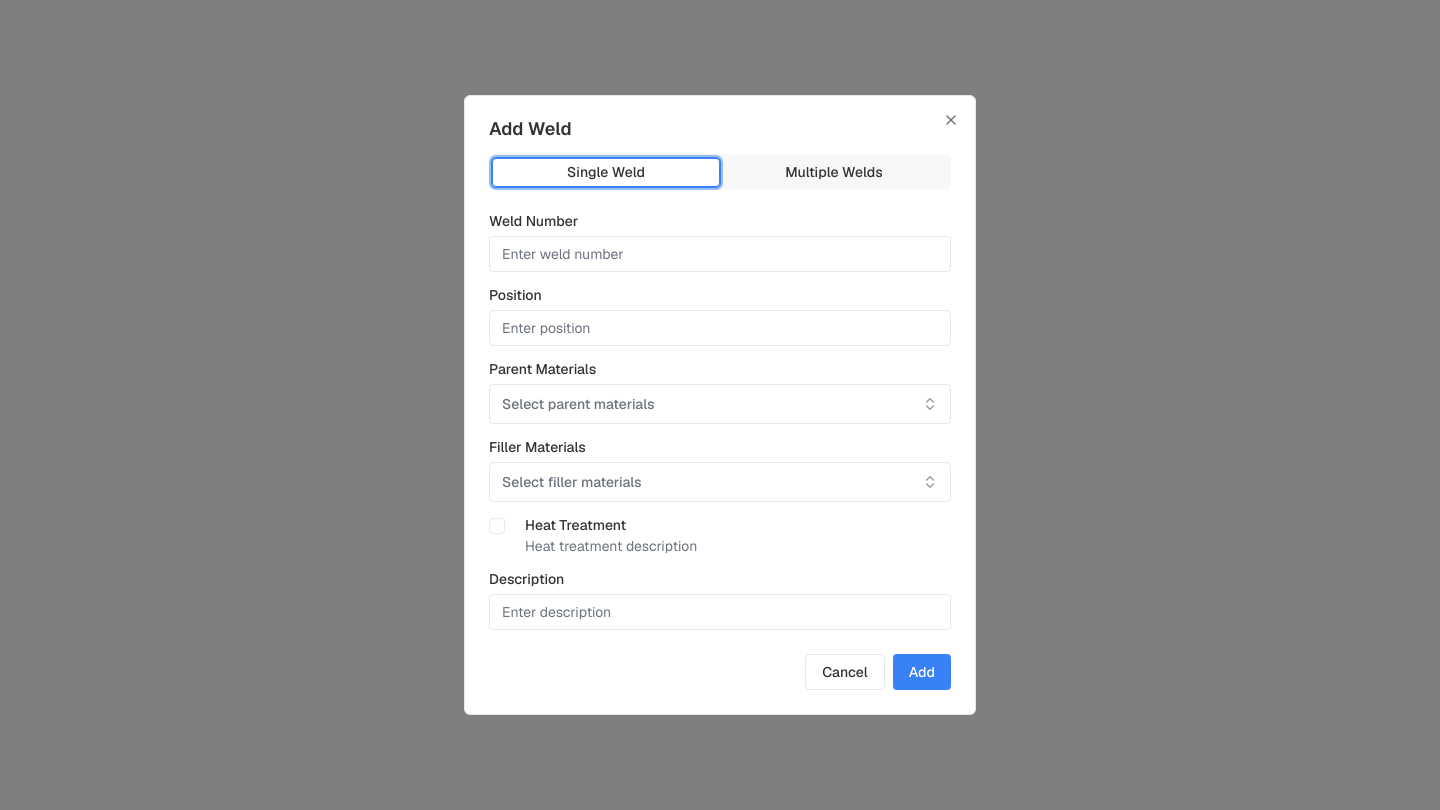
Test case: WeldFormDialog › Dialog Title Behavior › should update title when switching to multiple welds mode
The image size is (1440, 810).
Expected: the heading "Add Weld" is shown, [489,117,572,140]
Step 1. Click the tab "Multiple Welds" → [834, 172], box [720,158,948,186]
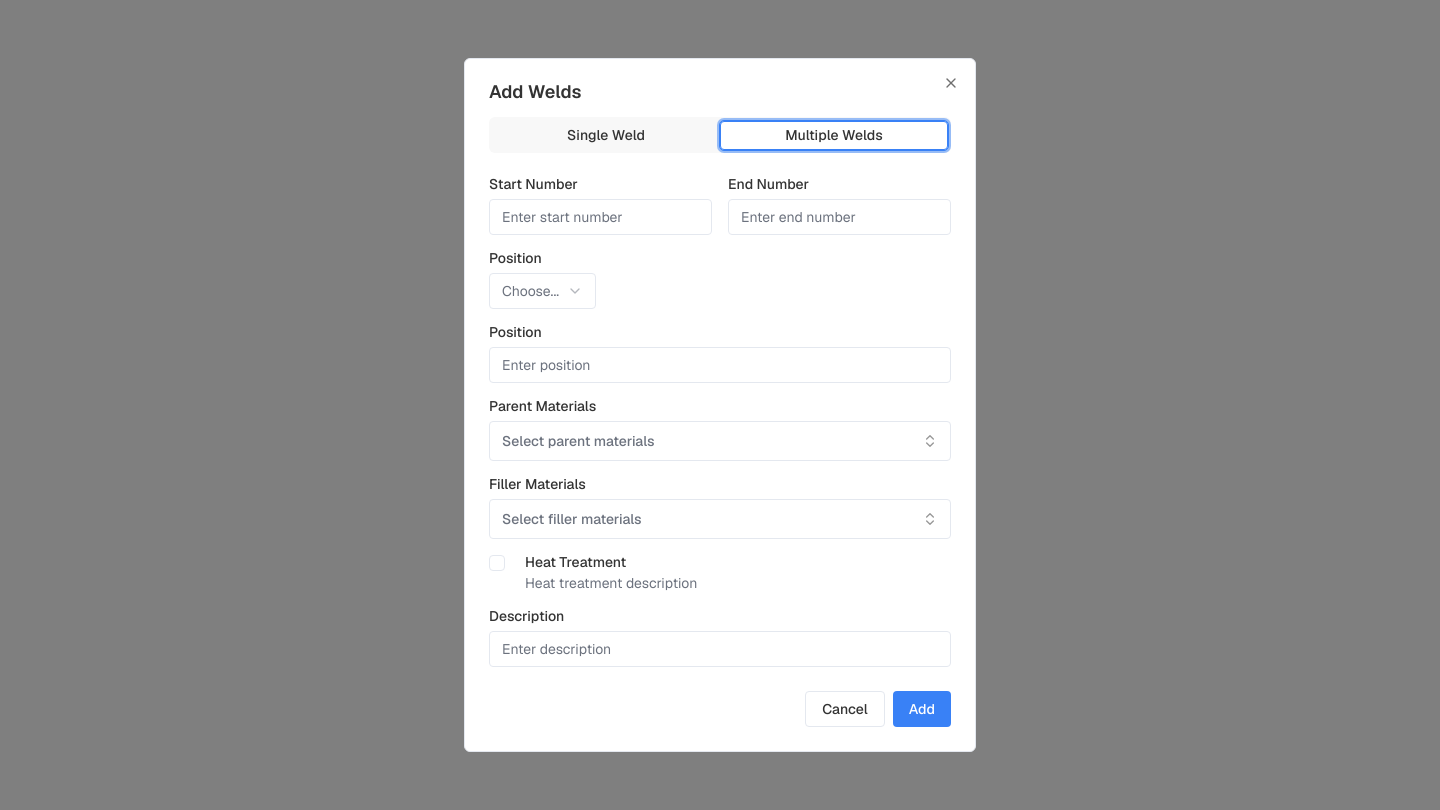
Expected: the heading "Add Welds" is shown, [489,80,582,103]
